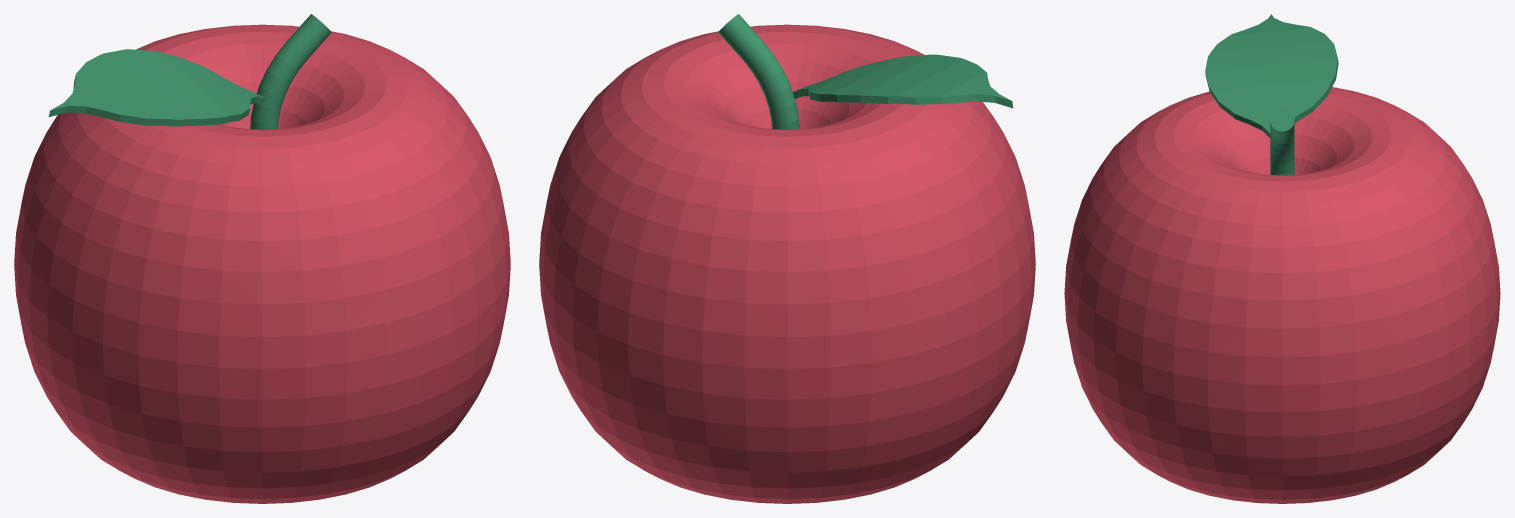
The model's file is apple.glb.
3 views of the same model, side by side, from view 1: azimuth 30°, elevation 25°; view 2: azimuth 150°, elevation 25°; view 3: azimuth 270°, elevation 25° (orthographic). The views are drawn at different scales.
Visible parts, largest first — view 1: Mesh_Mesh_head_geo.001_lambert2SG.001; view 2: Mesh_Mesh_head_geo.001_lambert2SG.001; view 3: Mesh_Mesh_head_geo.001_lambert2SG.001.
Part boxes in pixels (bbox=[...]): Mesh_Mesh_head_geo.001_lambert2SG.001: bbox=[14, 14, 510, 503]; Mesh_Mesh_head_geo.001_lambert2SG.001: bbox=[539, 14, 1035, 503]; Mesh_Mesh_head_geo.001_lambert2SG.001: bbox=[1064, 14, 1500, 503].
Bounding box in the file's own units: 20.22 × 18.5 × 20.
